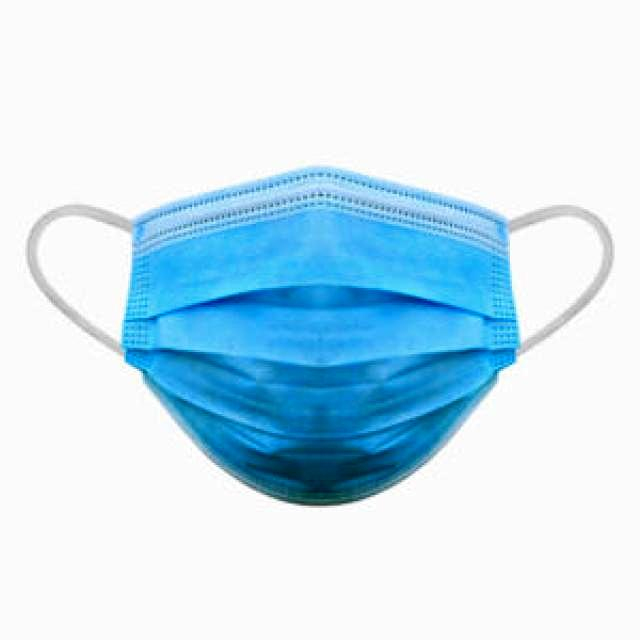Mask: (24, 162, 616, 508)
